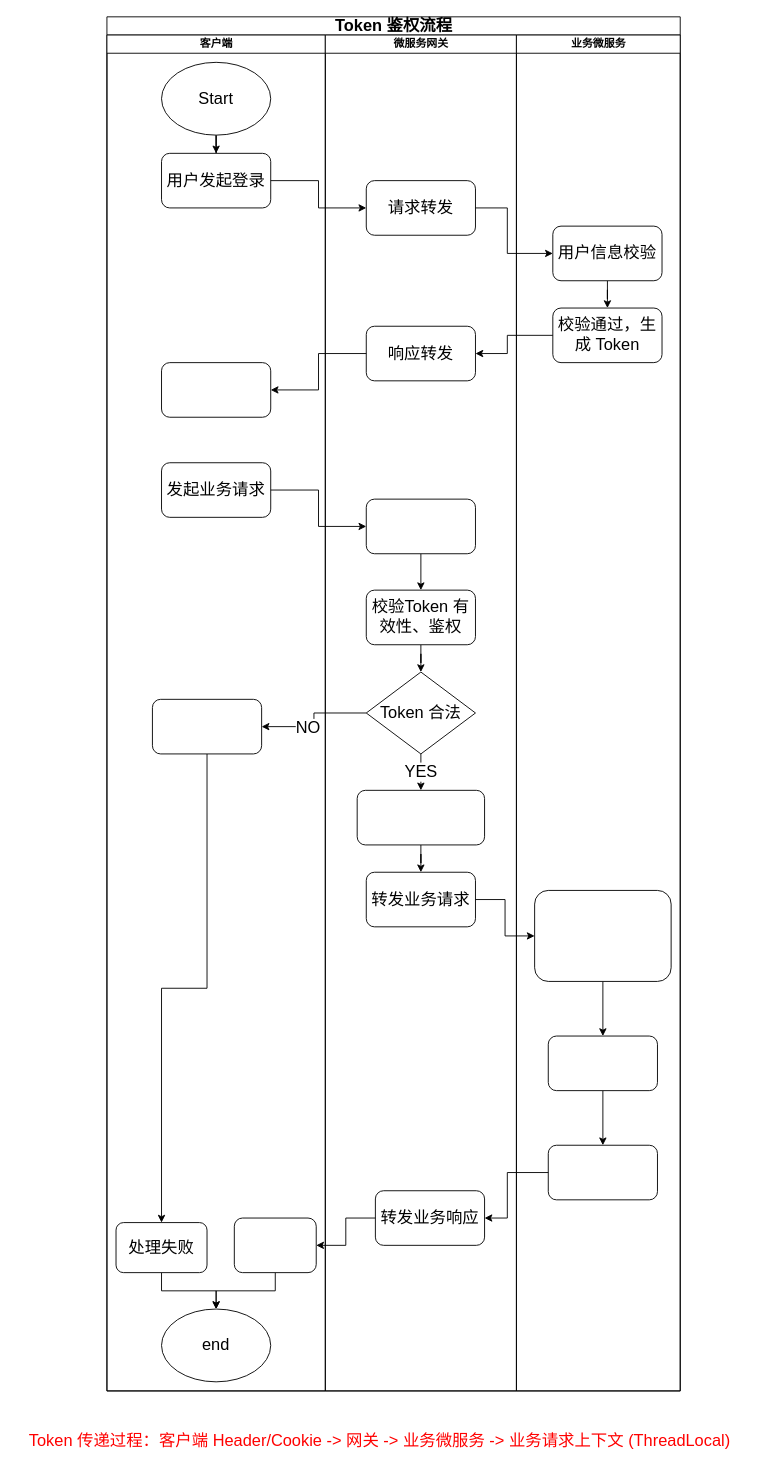
Some shapes in this 759 by 1479 pixel diagram are drawn without their labels. Each missing label, with the centre of its shape:
"从上下文获取用户信息" belongs at (602,1063).
"处理成功" belongs at (274,1245).
"执行业务处理" belongs at (602,1172).
"拦截器：从 Request Header 中获取用户，并写入当前上下文" belongs at (602,935).
"用户身份异常" belongs at (207,726).
"登录成功" belongs at (216,389).
"解析 Token" belongs at (420,526).
"解析用户信息，写入 Request Header" belongs at (420,817).
